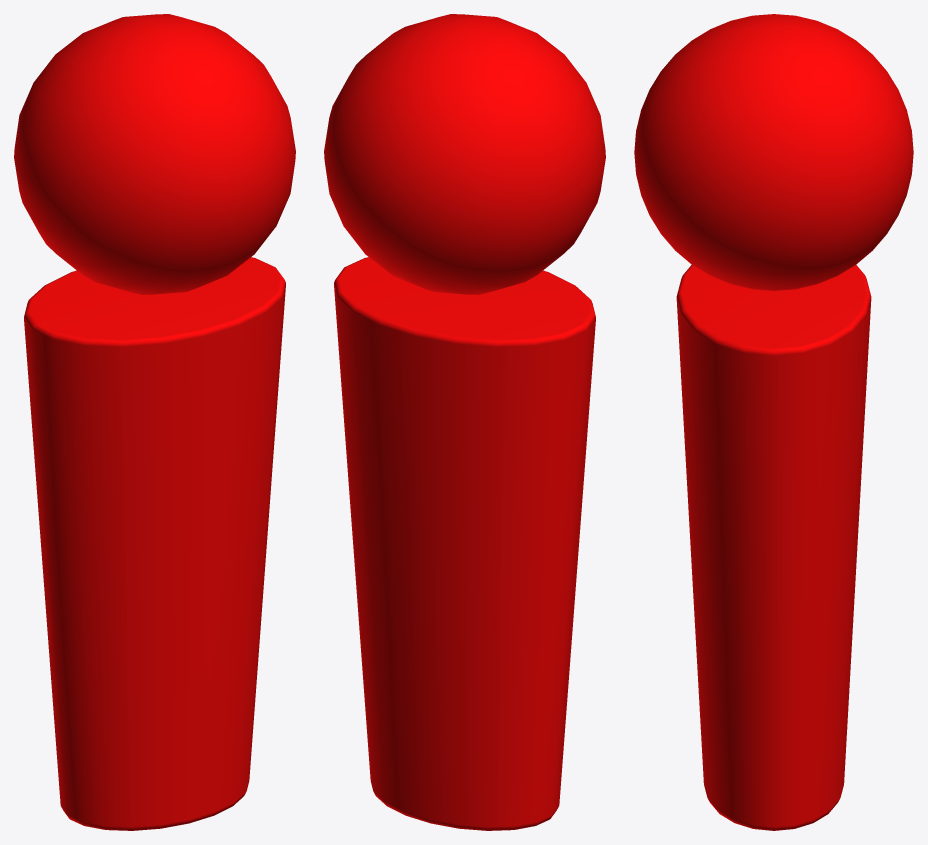
Rendered from Human_SplitMesh.fbx.
3 views of the same model, side by side, from view 1: azimuth 30°, elevation 25°; view 2: azimuth 150°, elevation 25°; view 3: azimuth 270°, elevation 25° (orthographic).
Visible parts, largest first — view 1: Body, Head; view 2: Body, Head; view 3: Body, Head.
Part boxes in pixels (x1=…): Body: x1=24, y1=257, x2=285, y2=830; Head: x1=14, y1=14, x2=295, y2=294; Body: x1=334, y1=257, x2=595, y2=830; Head: x1=324, y1=14, x2=605, y2=294; Body: x1=676, y1=265, x2=871, y2=830; Head: x1=634, y1=14, x2=913, y2=291.
Bounding box in the file's own units: 57.26 × 173 × 57.26.
1 material, 1 textured.
